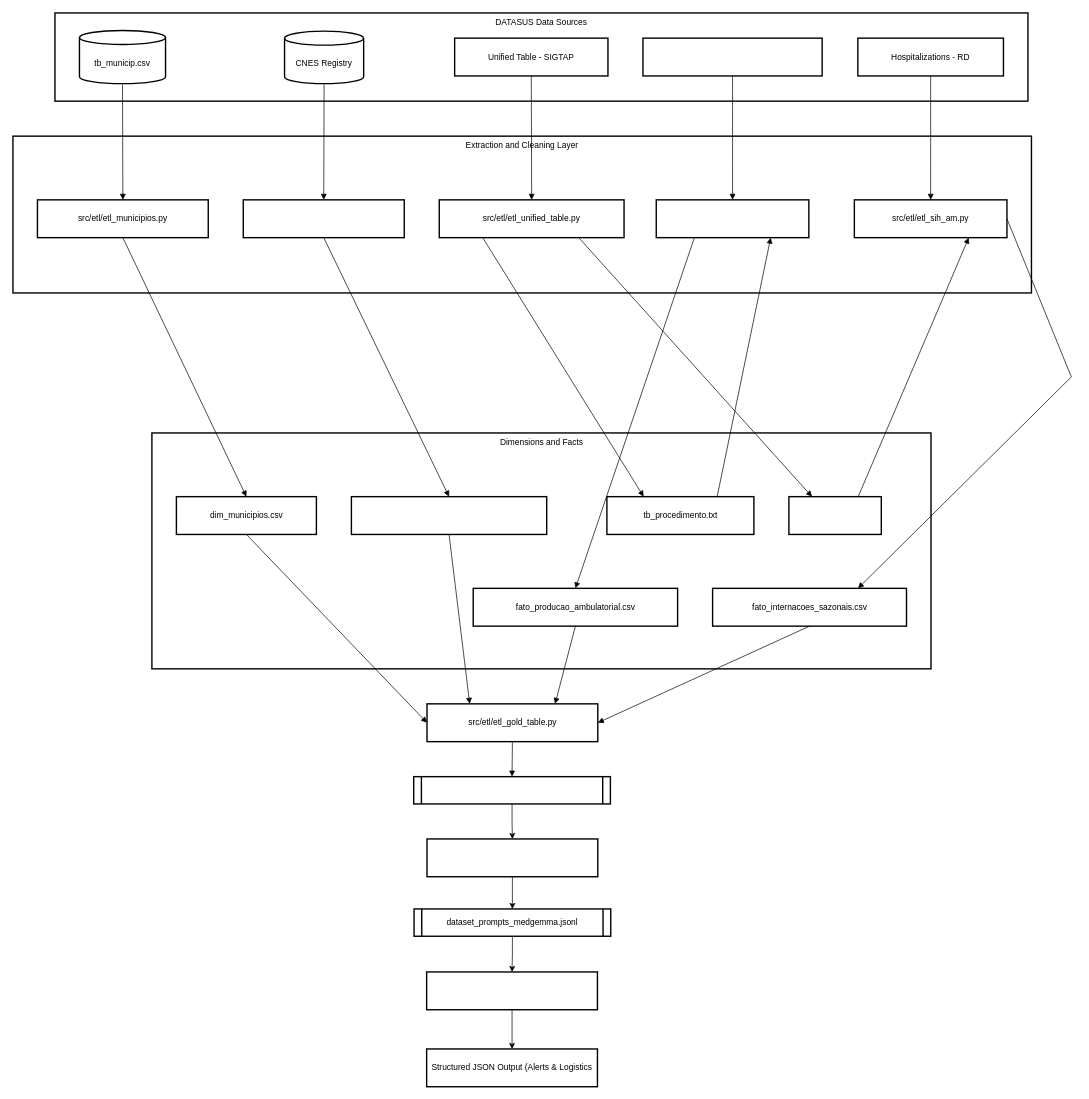
This 1089x1099 diagram has some shape labels left out. The centre of each missing label's shape, as x and y in pixels:
"abt_monitoramento_territorial.csv" belongs at point 512,790.
"Ambulatory Production - PA" belongs at point 732,56.
"dim_estabelecimentos_am.csv" belongs at point 448,515.
"generate_prompts.py" belongs at point 512,857.
"MedGemma 4B (Inference)" belongs at point 512,990.
"src/etl/etl_cnes_am.py" belongs at point 323,218.
"src/etl/etl_sia_am.py" belongs at point 732,218.
"tb_cid.txt" belongs at point 835,515.
